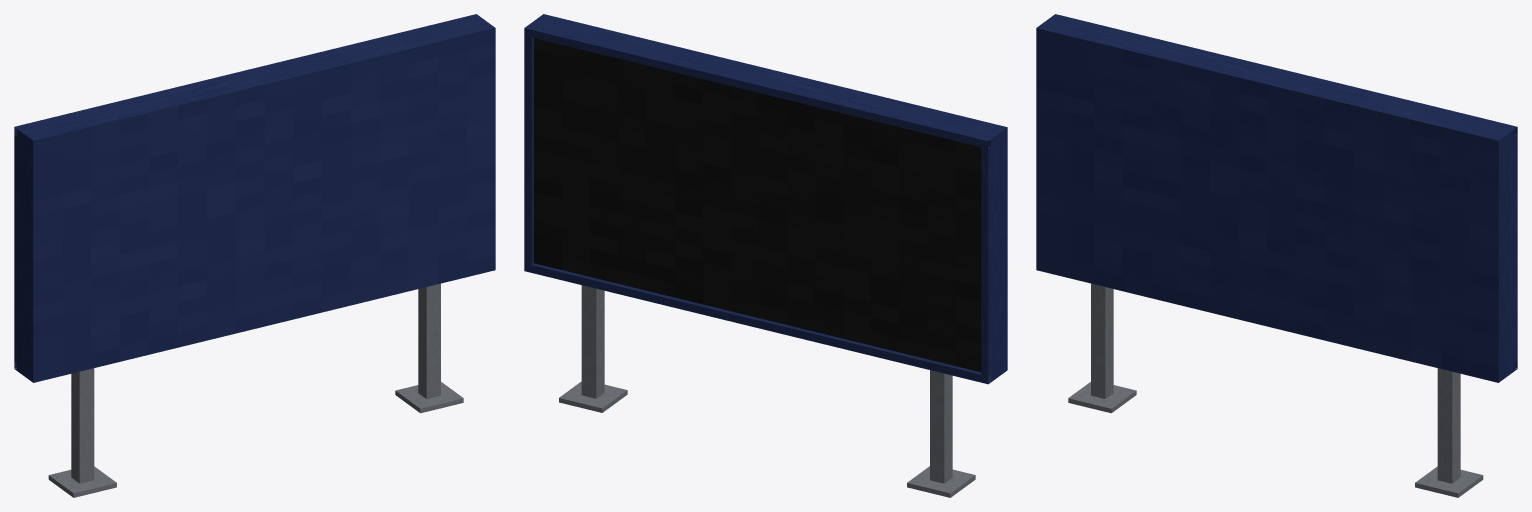
The model's file is pool_scoreboard.obj.
3 renders of one model, left to right at view 1: azimuth 30°, elevation 25°; view 2: azimuth 150°, elevation 25°; view 3: azimuth 330°, elevation 25°, orthographic.
Visible parts, largest first — view 1: pool_scoreboard; view 2: pool_scoreboard; view 3: pool_scoreboard.
Part boxes in pixels (x1,y1,x2,y2): pool_scoreboard: [14, 14, 495, 497]; pool_scoreboard: [524, 14, 1007, 497]; pool_scoreboard: [1036, 14, 1517, 497].
Size of the model in its own units: 4 by 3 by 0.375.
